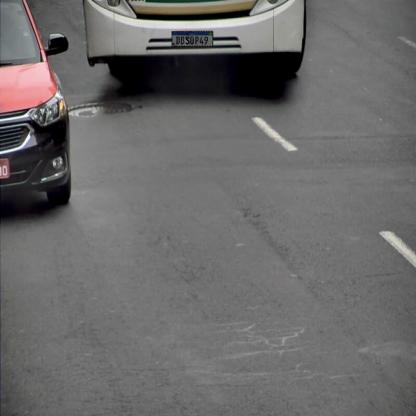PlacaM: (172, 31, 213, 47)
